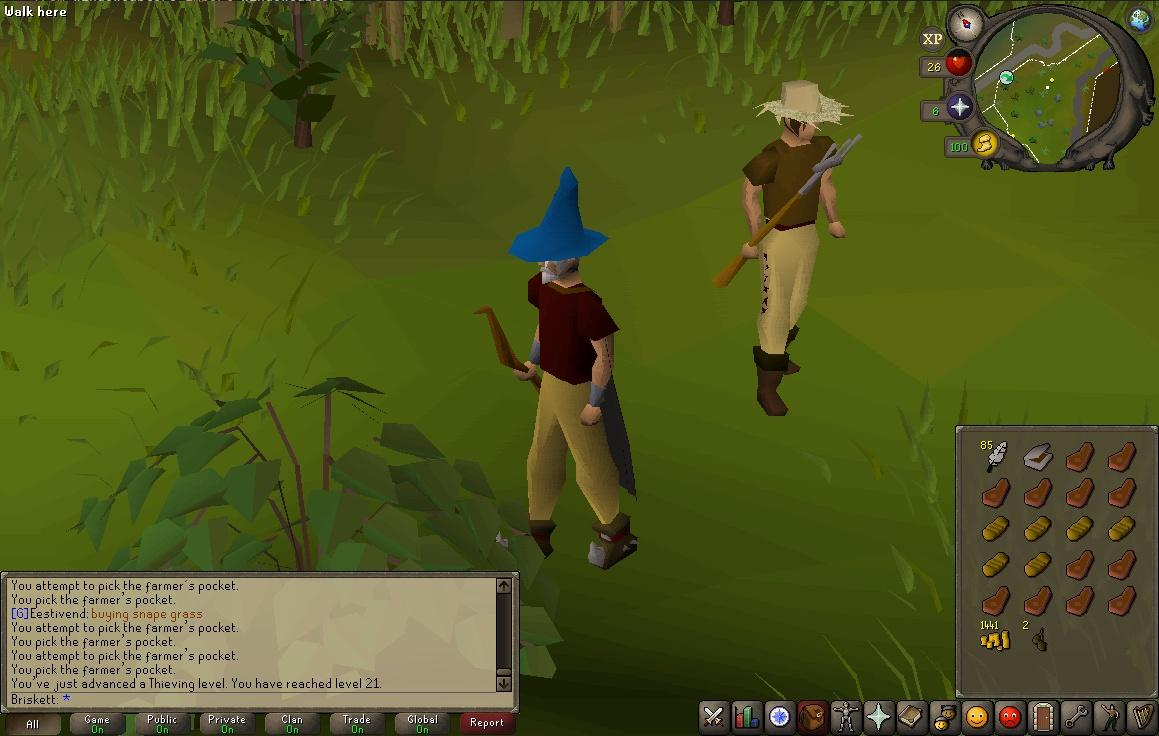Farmer: (738, 79, 862, 417)
